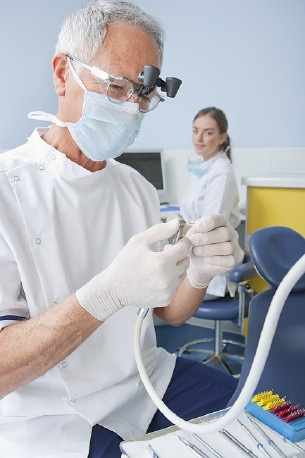Mask: (61, 52, 172, 163)
